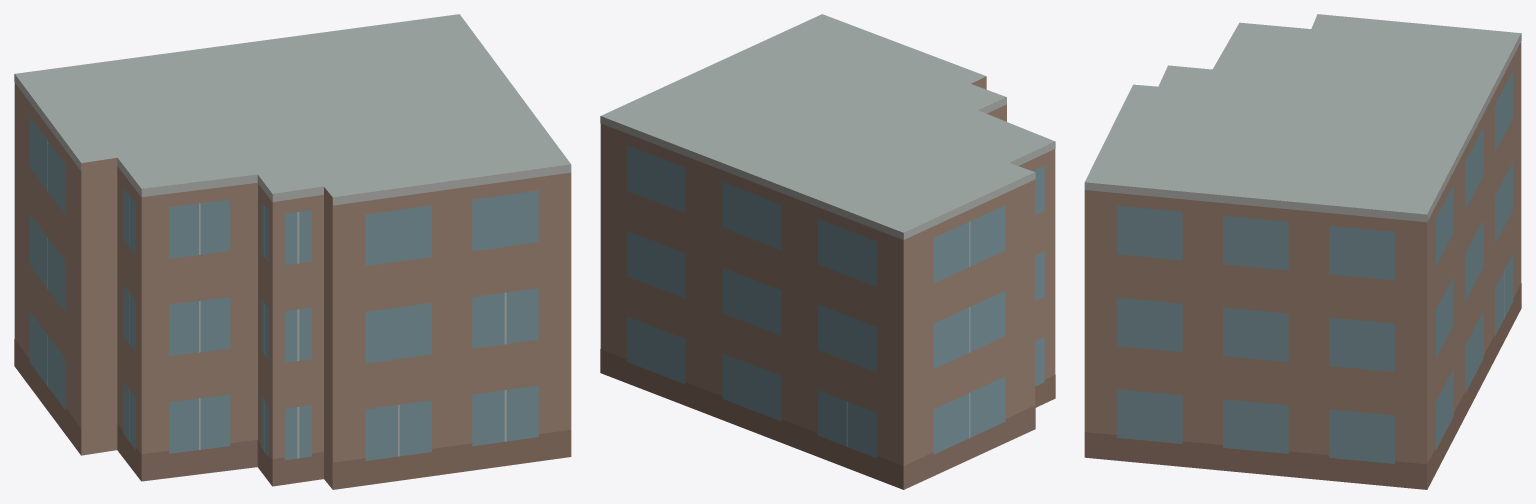
Rendered from survey-upis-32655224.glb.
The picture shows the model from 3 angles, left to right: view 1: azimuth 30°, elevation 25°; view 2: azimuth 150°, elevation 25°; view 3: azimuth 270°, elevation 25°; orthographic projection. The views are drawn at different scales.
Parts seen in each view (by area): view 1: survey-upis-32655224.tmp; view 2: survey-upis-32655224.tmp; view 3: survey-upis-32655224.tmp.
Part boxes in pixels (box(x1,y1,x2,y2)): survey-upis-32655224.tmp: box(14, 14, 571, 489); survey-upis-32655224.tmp: box(600, 14, 1055, 489); survey-upis-32655224.tmp: box(1084, 14, 1521, 489).
Bounding box in the file's own units: 13.6 × 8.7 × 12.52.
